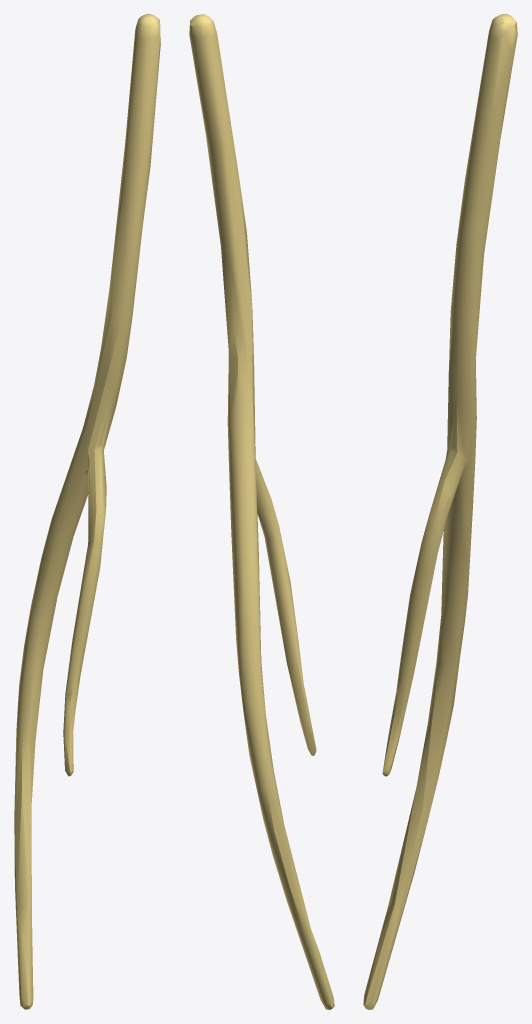
Rendered from fma52593_fj3919.glb.
3 renders of one model, left to right at view 1: azimuth 30°, elevation 25°; view 2: azimuth 150°, elevation 25°; view 3: azimuth 330°, elevation 25°, orthographic. The views are drawn at different scales.
Visible parts, largest first — view 1: FMA52593_FJ3919; view 2: FMA52593_FJ3919; view 3: FMA52593_FJ3919.
Part boxes in pixels (bbox=[...]): FMA52593_FJ3919: bbox=[14, 14, 160, 1009]; FMA52593_FJ3919: bbox=[189, 14, 334, 1009]; FMA52593_FJ3919: bbox=[363, 14, 517, 1009].
Bounding box in the file's own units: 0.00345 × 0.0224 × 0.00235.
